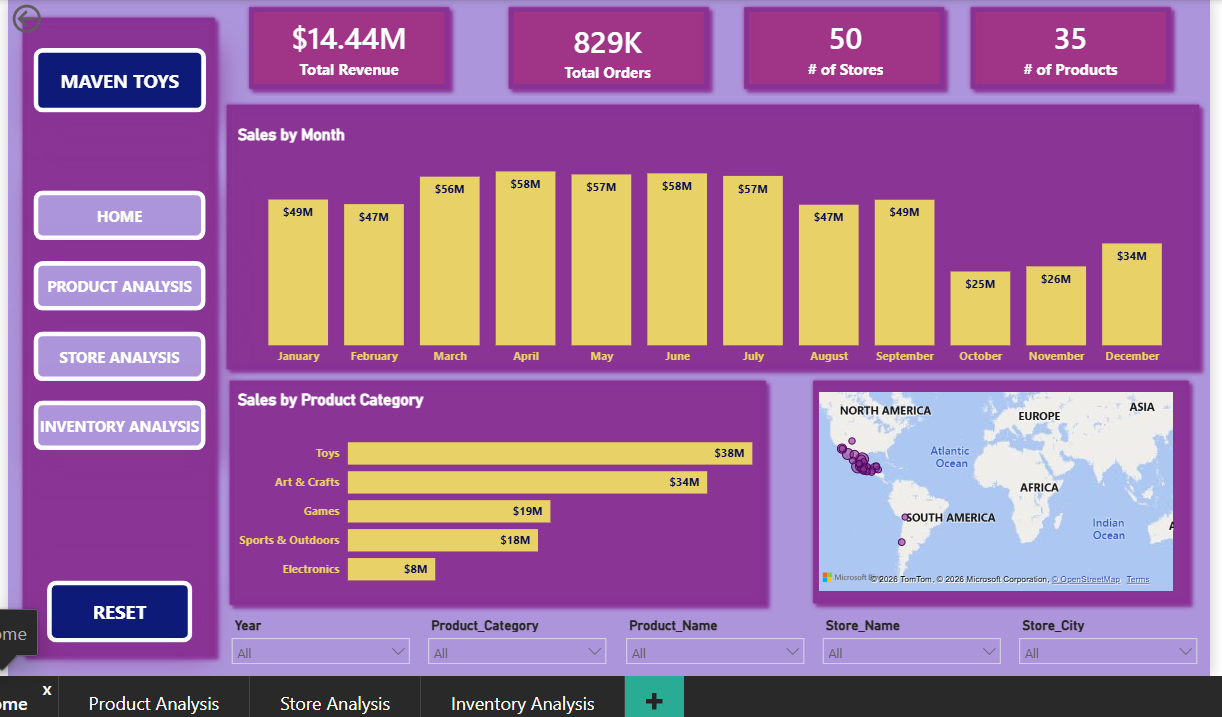

The dashboard page shown, as its layout file describes it:
{"tool":"powerbi","page":{"name":"Home","canvas":[1280,720],"ordinal":0},"visuals":[{"type":"shape","box":[249.2,0,228.5,102.3],"z":0},{"type":"shape","box":[8,11,220,695],"z":1000},{"type":"shape","box":[225.3,103.8,1051.3,297.2],"z":2000},{"type":"shape","box":[27.1,202.2,183.3,52.9],"z":3000},{"type":"shape","box":[27.1,277.8,183.3,52.9],"z":4000},{"type":"shape","box":[27.1,353.4,183.3,52.9],"z":5000},{"type":"shape","box":[27.1,427.1,183.3,52.9],"z":6000},{"type":"shape","box":[41.6,618,155,66.1],"z":7000},{"type":"shape","box":[228.5,397.8,586.3,254],"z":8000},{"type":"actionButton","box":[0,0,100,40],"z":9000},{"type":"columnChart","title":"Sales by Month","fields":{"Category":["calendar.Date.Variation.Date Hierarchy.Month"],"Y":["sales.Sales (in value)"]},"box":[239.7,132.6,1027.3,265.2],"z":10000},{"type":"clusteredBarChart","title":"Sales by Product Category","fields":{"Category":["products.Product_Category"],"Y":["sales.Sales (in value)"]},"box":[239.7,415.4,575.2,221],"z":11000},{"type":"shape","box":[850,397.8,415.4,252.4],"z":12000},{"type":"map","title":"Sales by Month","fields":{"Category":["stores.Store_City"],"Size":["sales.Sales (in value)"]},"box":[857.9,412.2,388.2,222.1],"z":13000},{"type":"slicer","title":"Sales by Month","fields":{"Values":["calendar.Date.Variation.Date Hierarchy.Year"]},"box":[228.5,651.8,209.3,68.7],"z":14000},{"type":"cardVisual","title":"Sales by Month","fields":{"Data":["Sum(sales.Revenue)"]},"box":[249.2,0,228.5,102.3],"z":15000},{"type":"shape","box":[776.5,0,228.5,102.3],"z":16000},{"type":"shape","box":[525.6,0,228.5,102.3],"z":17000},{"type":"shape","box":[1017.7,0,228.5,102.3],"z":18000},{"type":"cardVisual","title":"Sales by Month","fields":{"Data":["Count(products.Product_ID)"]},"box":[1017.7,0,228.5,102.3],"z":19000},{"type":"cardVisual","title":"Sales by Month","fields":{"Data":["CountNonNull(stores.Store_ID)"]},"box":[778.1,0,228.5,102.3],"z":20000},{"type":"slicer","title":"Sales by Month","fields":{"Values":["products.Product_Category"]},"box":[437.8,651.8,209.3,68.7],"z":21000},{"type":"slicer","title":"Sales by Month","fields":{"Values":["products.Product_Name"]},"box":[648.7,651.8,209.3,68.7],"z":22000},{"type":"slicer","title":"Sales by Month","fields":{"Values":["stores.Store_City"]},"box":[1067.2,651.8,209.3,68.7],"z":23000},{"type":"slicer","title":"Sales by Month","fields":{"Values":["stores.Store_Name"]},"box":[857.9,651.8,209.3,68.7],"z":24000},{"type":"shape","box":[27.2,51.1,183.7,68.7],"z":25000},{"type":"cardVisual","fields":{"Data":["Count(sales.Sale_ID)"]},"box":[543.2,4.8,191.7,99.1],"z":26000}]}

Visuals, with their boxes on the page's 1280x720 design canvas (x1, y1, x2, y2). These are canvas units, not pixel positions in the 1222x717 screenshot, which may show the page scaled, cropped or inside an application window:
shape: locate(249, 0, 478, 102)
shape: locate(8, 11, 228, 706)
shape: locate(225, 104, 1277, 401)
shape: locate(27, 202, 210, 255)
shape: locate(27, 278, 210, 331)
shape: locate(27, 353, 210, 406)
shape: locate(27, 427, 210, 480)
shape: locate(42, 618, 197, 684)
shape: locate(228, 398, 815, 652)
actionButton: locate(0, 0, 100, 40)
"Sales by Month" columnChart: locate(240, 133, 1267, 398)
"Sales by Product Category" clusteredBarChart: locate(240, 415, 815, 636)
shape: locate(850, 398, 1265, 650)
"Sales by Month" map: locate(858, 412, 1246, 634)
"Sales by Month" slicer: locate(228, 652, 438, 720)
"Sales by Month" cardVisual: locate(249, 0, 478, 102)
shape: locate(776, 0, 1005, 102)
shape: locate(526, 0, 754, 102)
shape: locate(1018, 0, 1246, 102)
"Sales by Month" cardVisual: locate(1018, 0, 1246, 102)
"Sales by Month" cardVisual: locate(778, 0, 1007, 102)
"Sales by Month" slicer: locate(438, 652, 647, 720)
"Sales by Month" slicer: locate(649, 652, 858, 720)
"Sales by Month" slicer: locate(1067, 652, 1276, 720)
"Sales by Month" slicer: locate(858, 652, 1067, 720)
shape: locate(27, 51, 211, 120)
cardVisual - Count(sales.Sale_ID): locate(543, 5, 735, 104)
